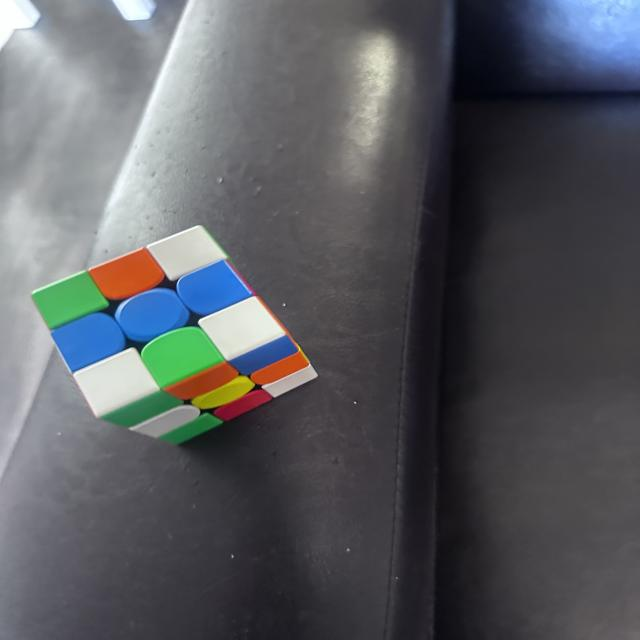sticker: (140, 328, 236, 400), (73, 348, 165, 422), (199, 297, 290, 367), (146, 225, 228, 283), (30, 271, 109, 330), (49, 314, 126, 373), (177, 259, 253, 316), (113, 288, 189, 344), (88, 247, 166, 301), (100, 390, 184, 430), (229, 334, 302, 380), (163, 359, 241, 402), (128, 405, 206, 441), (152, 412, 224, 446), (249, 349, 311, 387), (260, 361, 320, 399), (191, 375, 255, 410), (212, 389, 272, 422)
